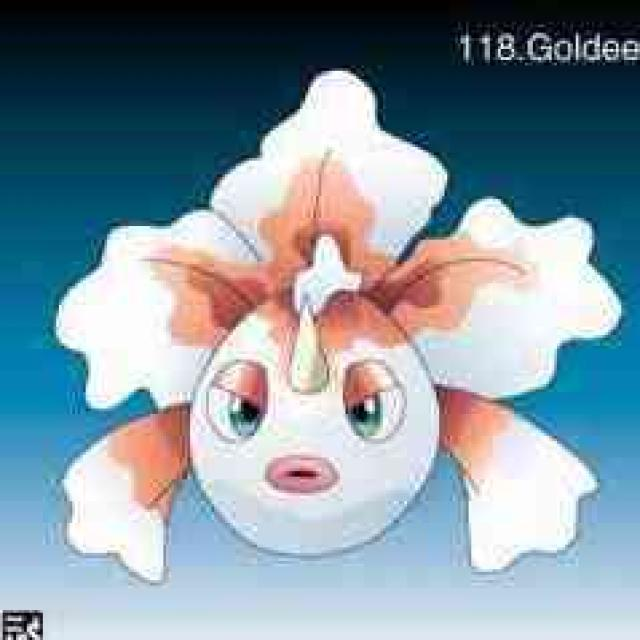Goldeen: (84, 192, 495, 561)
